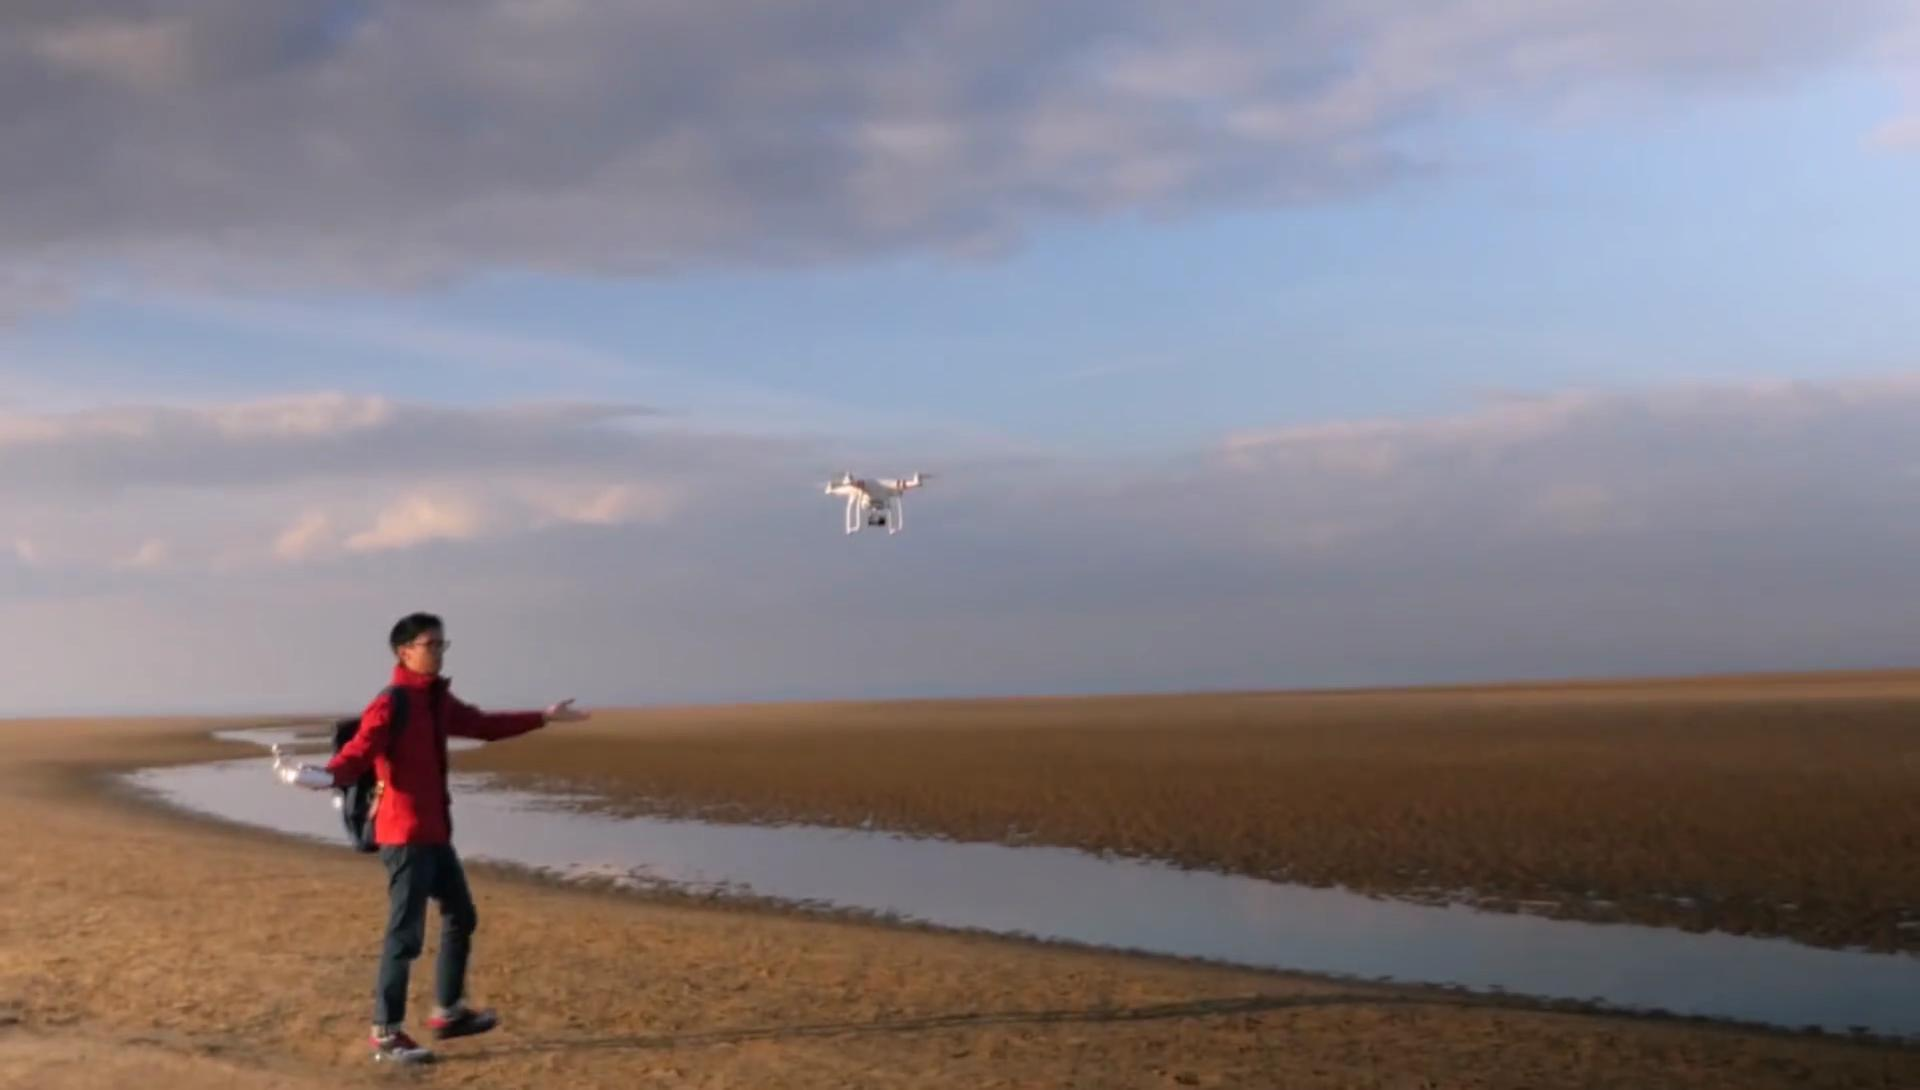drone: (819, 461, 907, 538)
